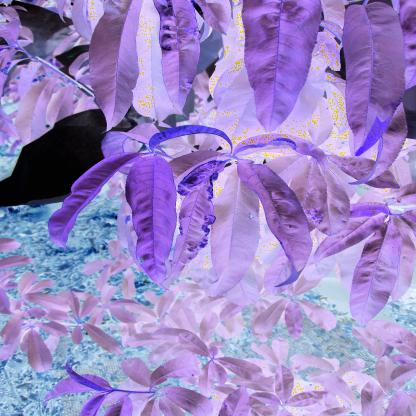peach leaf: (40, 146, 148, 251), (237, 3, 323, 129), (338, 7, 406, 154), (121, 152, 174, 291), (89, 1, 144, 134), (353, 223, 402, 330), (11, 78, 60, 146), (296, 296, 341, 334), (81, 324, 130, 357), (23, 329, 55, 377), (162, 386, 211, 416), (121, 353, 154, 393), (219, 354, 267, 381), (252, 297, 289, 332), (350, 325, 387, 357), (176, 330, 215, 360), (23, 291, 75, 313), (375, 354, 400, 396), (359, 381, 386, 416), (283, 300, 305, 341), (273, 364, 293, 399)
